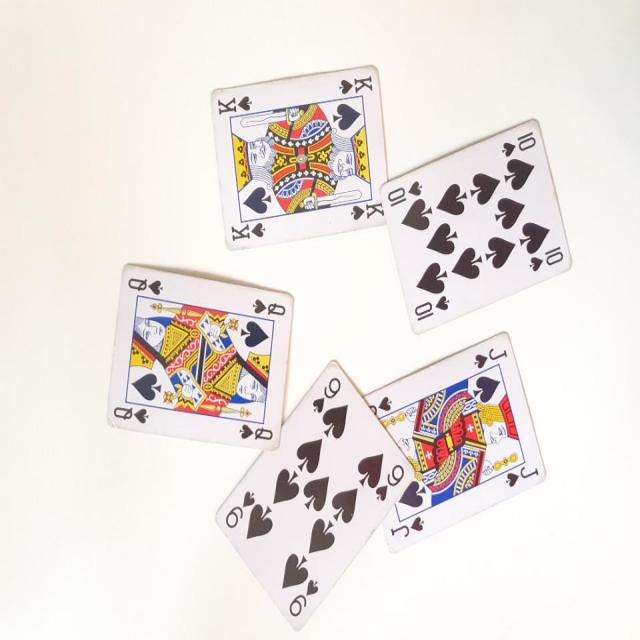10 Spades: (374, 106, 578, 338)
9 Spades: (205, 357, 412, 631)
J Spades: (359, 326, 555, 563)
K Spades: (205, 60, 395, 258)
Q Spades: (104, 257, 292, 454)
